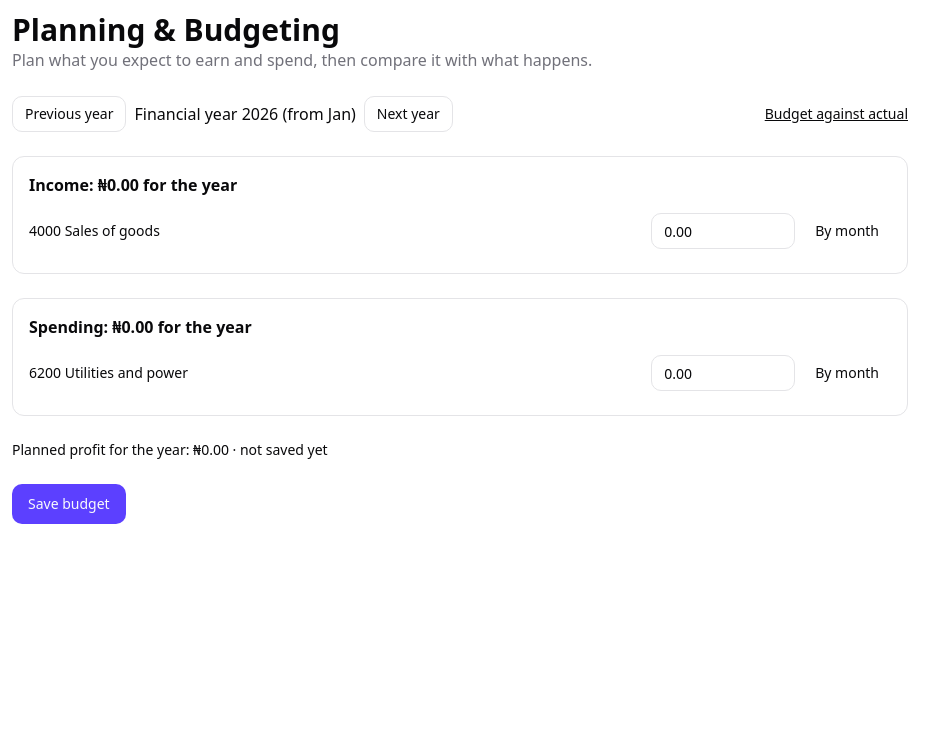
Test case: the owner sets a yearly amount, adjusts a month, and saves only accounts with a budget
Replace the text in the field named "Year total for Utilities and power" with "120000.5" at x=723, y=373, box [651,355,795,391]
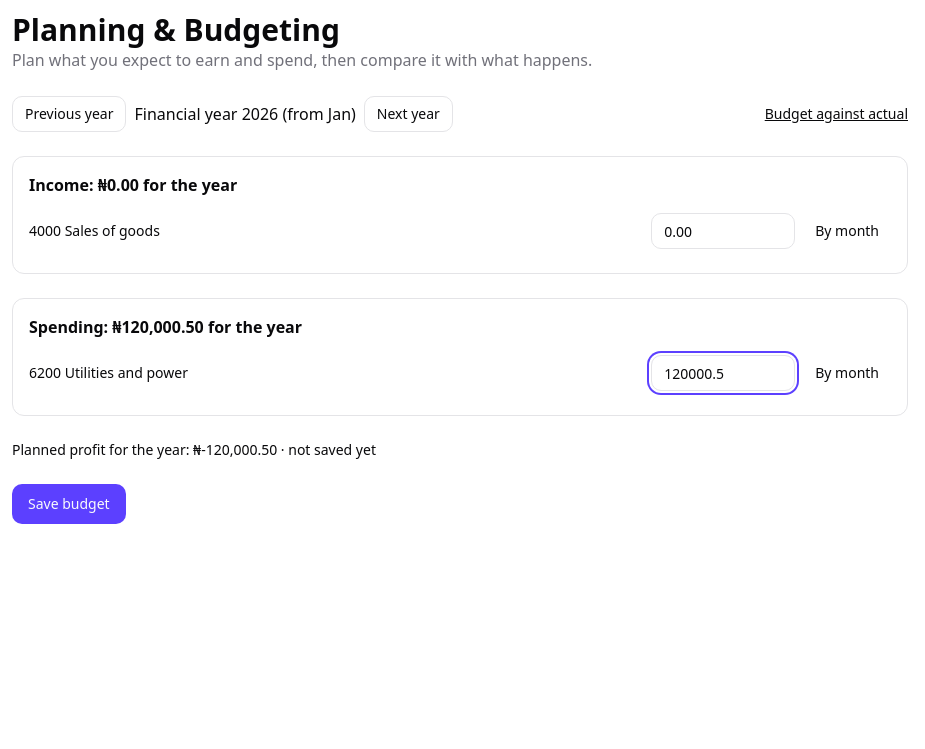
Now the heading "Spending: ₦120,000.50 for the year" is shown, box [29,316,302,338]
Click the button "By month" in the row of "Utilities and power" at x=847, y=373, box [803,355,891,391]
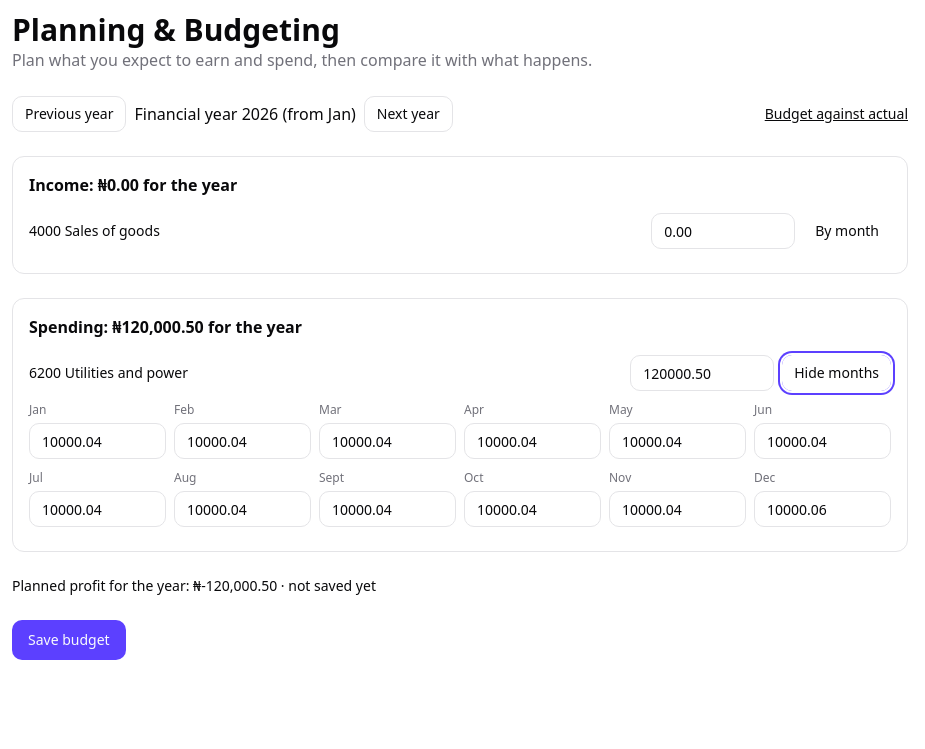
Replace the text in the field named "Utilities and power in Jan" with "20000" at x=98, y=441, box [29,423,166,459]
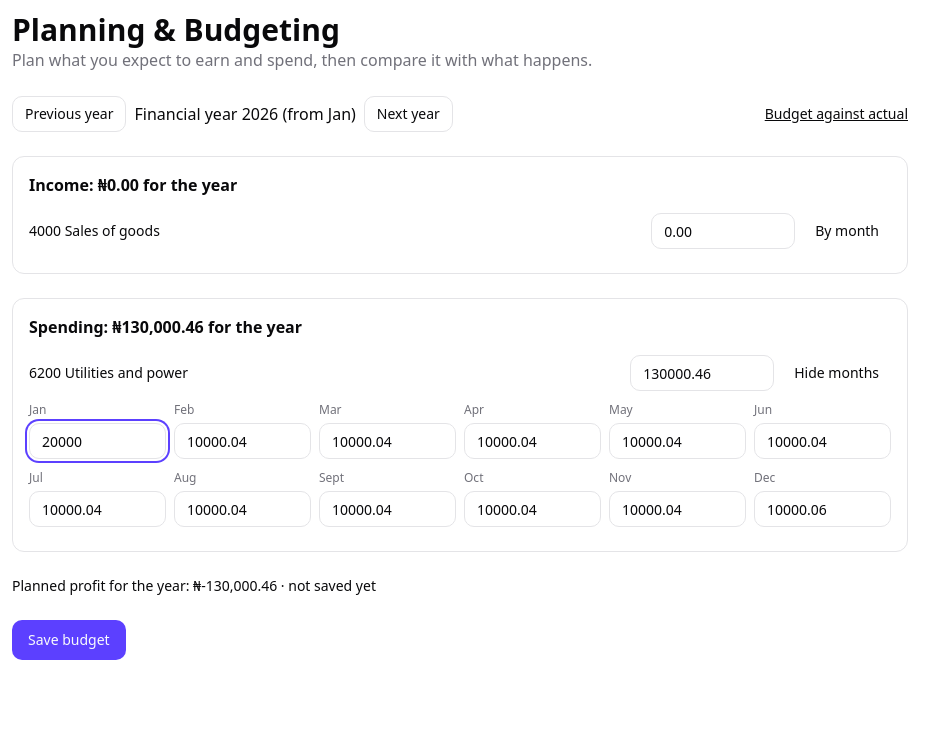
Click the button "Save budget" at x=69, y=640, box [12,620,126,660]
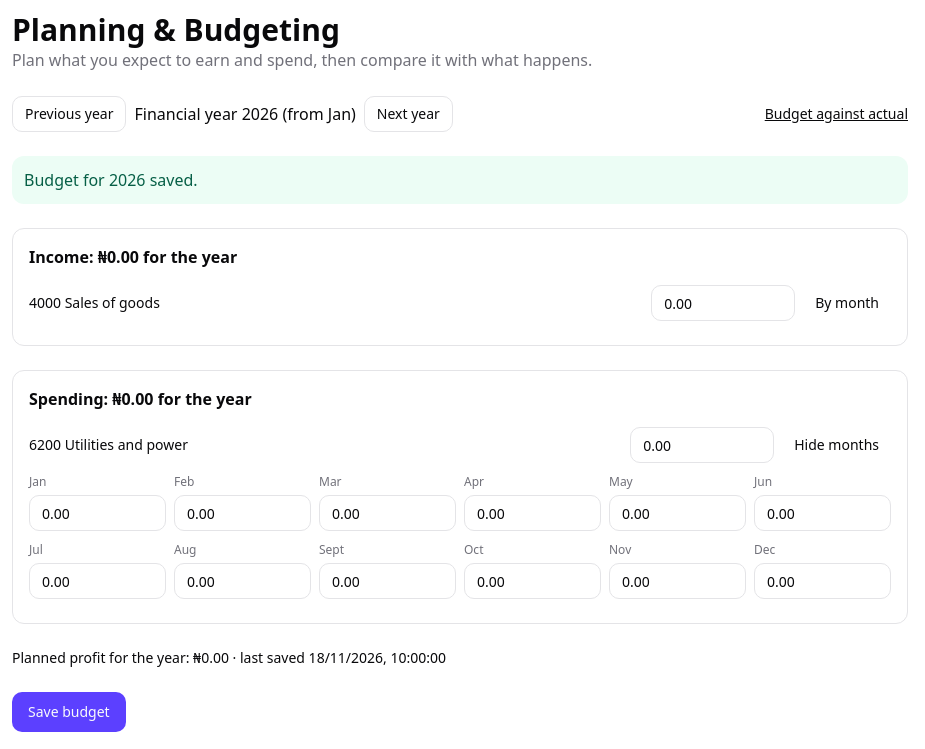
Now the text "Budget for 2026 saved." is shown, box [12,156,908,204]
